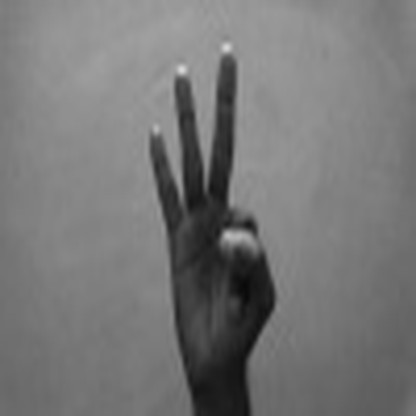f: (122, 38, 287, 380)
